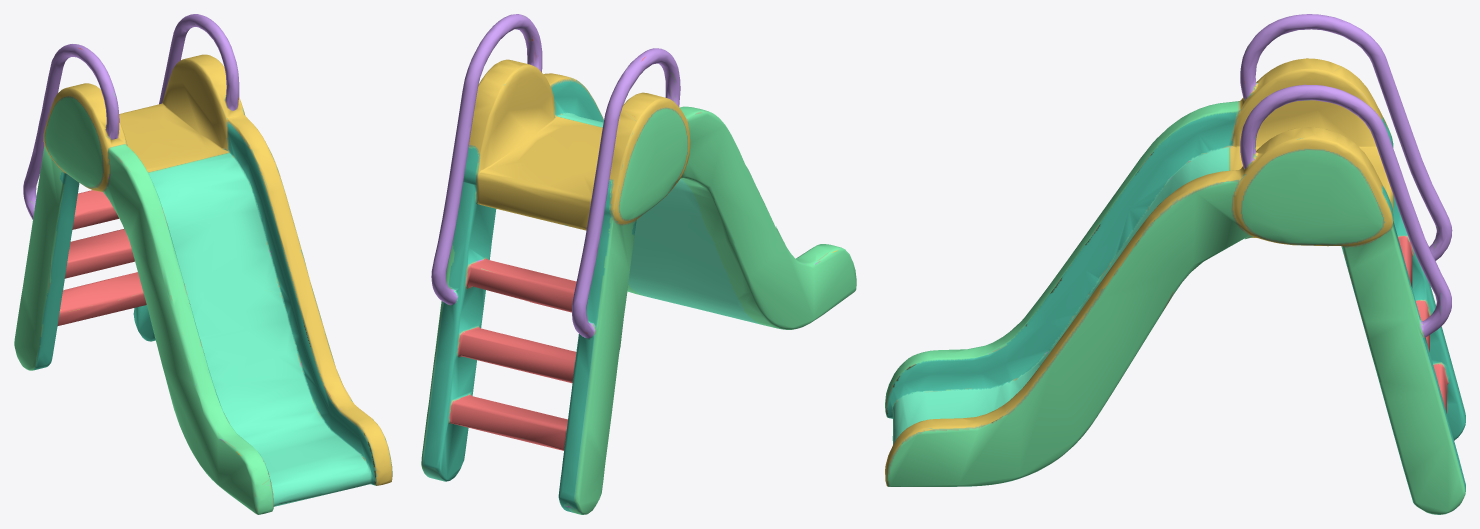
The model's file is play_slide.glb.
3 renders of one model, left to right at view 1: azimuth 30°, elevation 25°; view 2: azimuth 150°, elevation 25°; view 3: azimuth 270°, elevation 25°, orthographic. The views are drawn at different scales.
Parts seen in each view (by area): view 1: Mesh_0; view 2: Mesh_0; view 3: Mesh_0.
Boxes of the visible parts, x1,y1,x2,y2 form: Mesh_0: [14, 14, 392, 514]; Mesh_0: [421, 14, 856, 514]; Mesh_0: [885, 14, 1465, 514].
Size of the model in its own units: 0.6542 by 1.54 by 1.9.
Materials: 1 (1 with a texture image).
